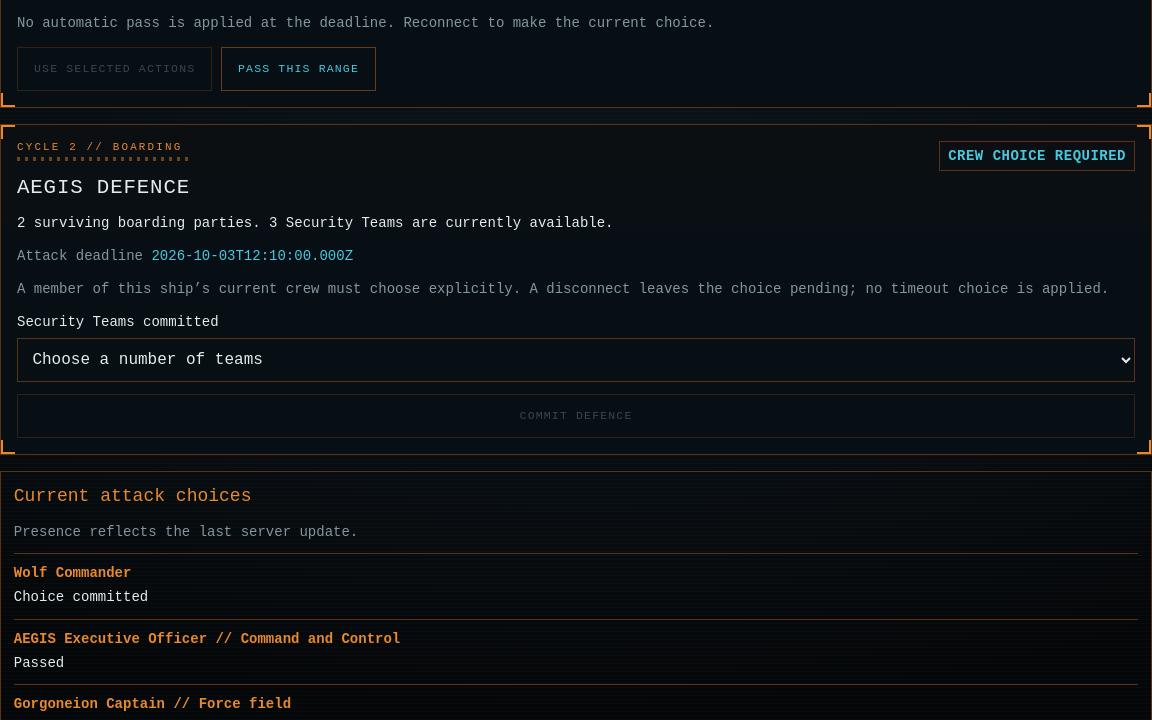
Test: requires an explicit boarding count including zero in the real prepared presenter
(page scrolled)
Expected: the button "Commit defence" is disabled, [17,394,1135,438]
Select "0 teams" in the dropdown labelled "Security Teams committed" at x=576, y=360, box [17,338,1135,382]
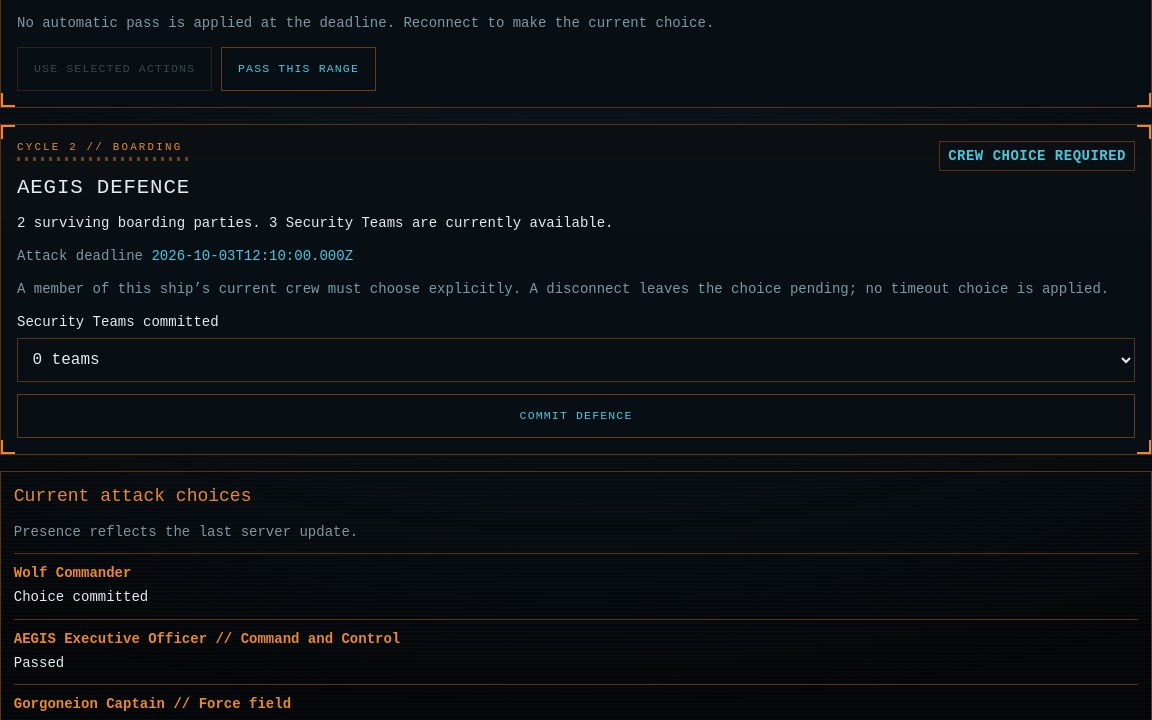
Click the button "Commit defence" at x=576, y=416, box [17,394,1135,438]
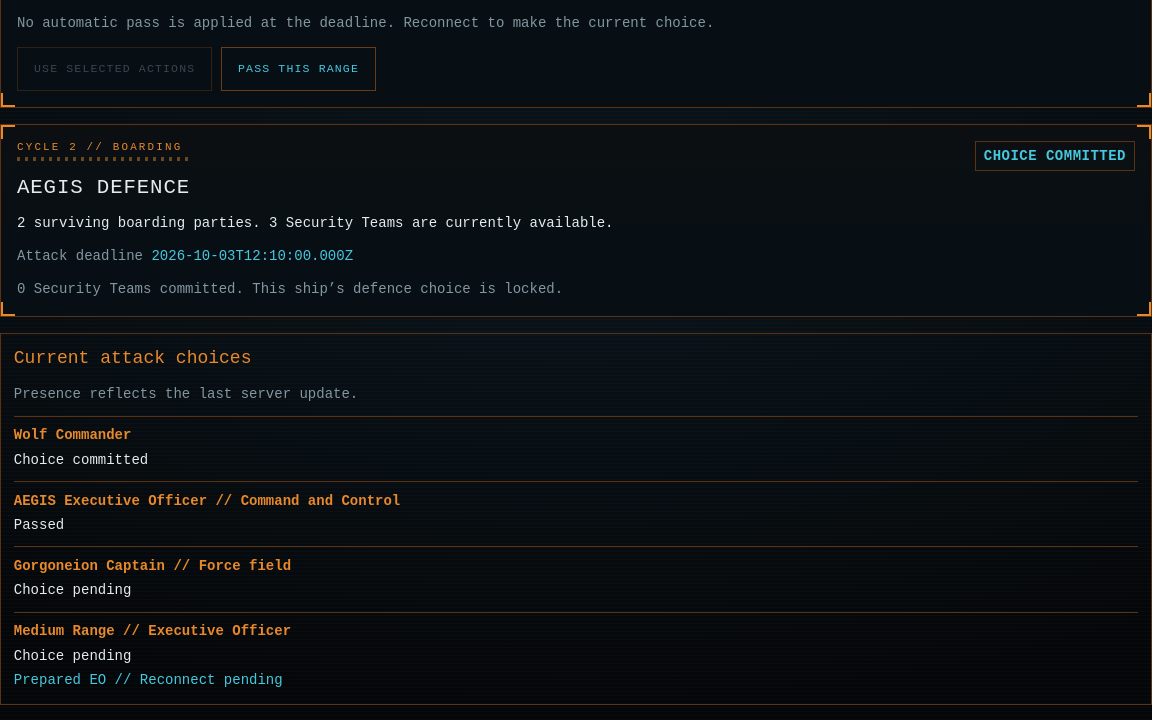
Expected: the element named "AEGIS boarding defence" shows "0 Security Teams committed", [0,124,1151,317]
